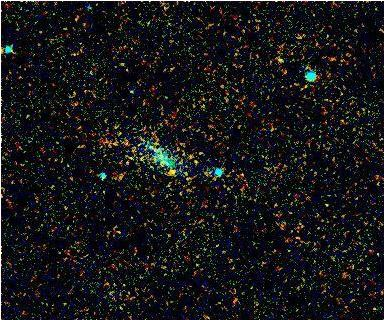star: (156, 155, 186, 185)
